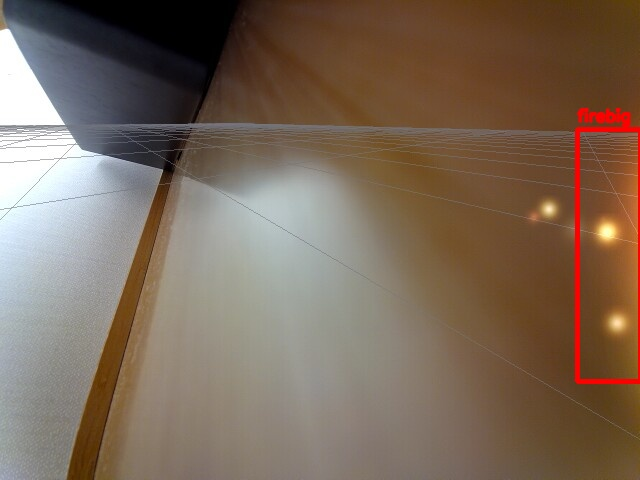firebig: (577, 129, 640, 381)
